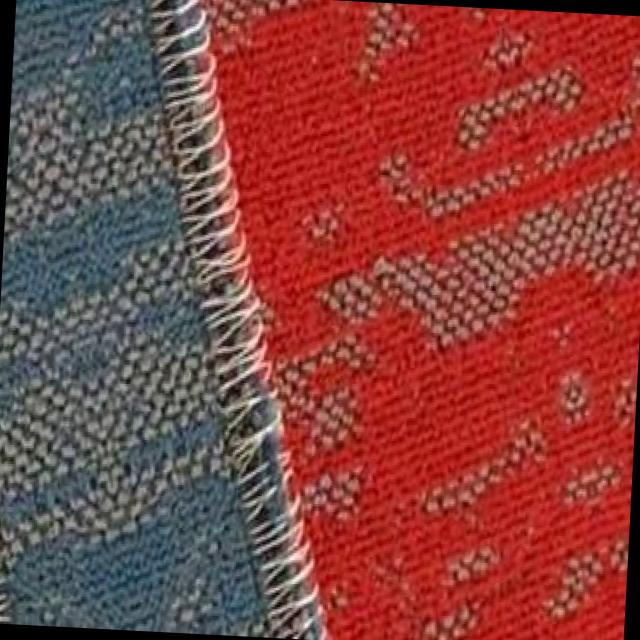gray stitch: (133, 0, 279, 329), (192, 328, 342, 640)
